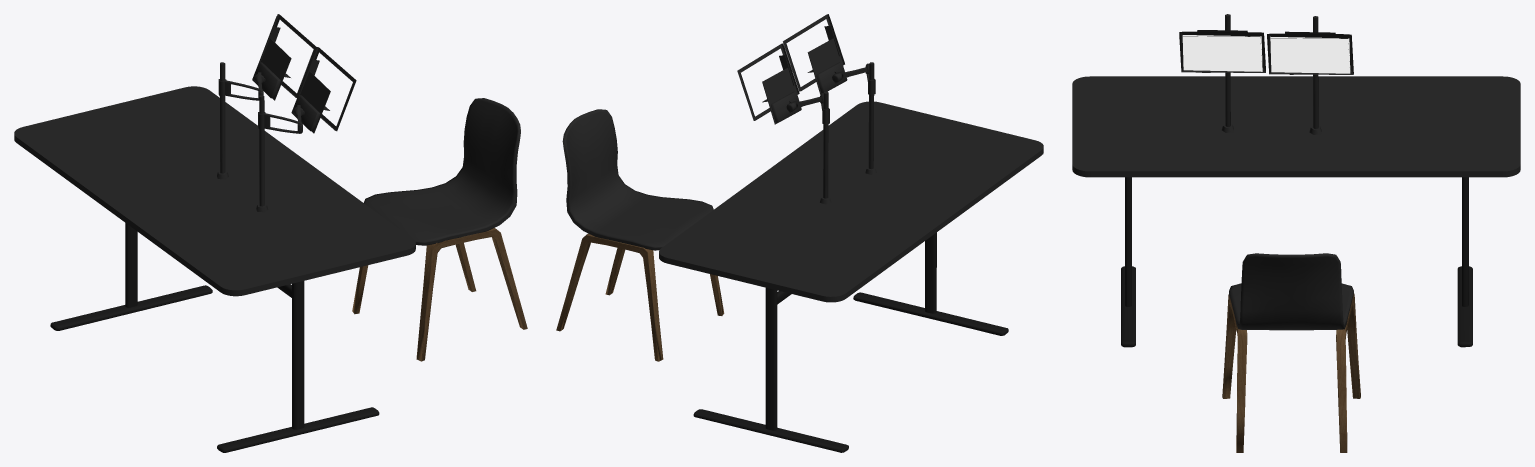
The model's file is desk.glb.
3 views of the same model, side by side, from view 1: azimuth 30°, elevation 25°; view 2: azimuth 150°, elevation 25°; view 3: azimuth 270°, elevation 25° (orthographic). The views are drawn at different scales.
Visible parts, largest first — view 1: Table; view 2: Table; view 3: Table.
Boxes of the visible parts, x1,y1,x2,y2 form: Table: [14, 14, 527, 452]; Table: [556, 14, 1043, 452]; Table: [1072, 14, 1520, 452].
Size of the model in its own units: 1.74 by 1.38 by 1.73.
Materials: 4 (1 with a texture image).
